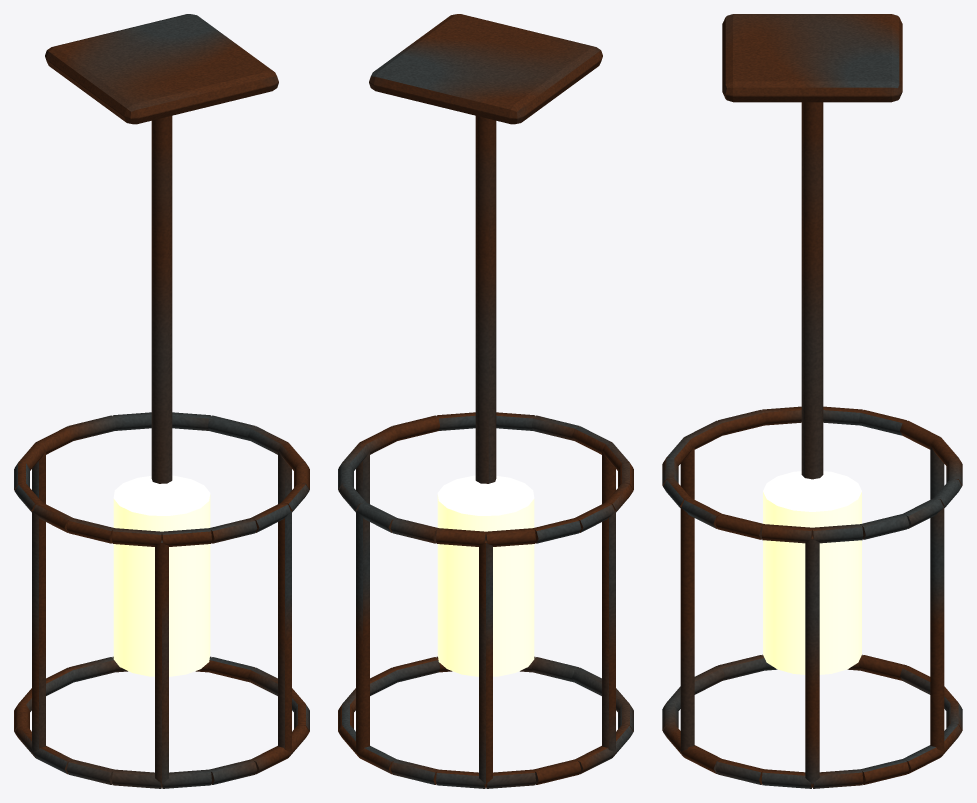
Rendered from CeilingLamp.fbx.
The picture shows the model from 3 angles, left to right: view 1: azimuth 30°, elevation 25°; view 2: azimuth 150°, elevation 25°; view 3: azimuth 270°, elevation 25°; orthographic projection.
Parts seen in each view (by area): view 1: CeilingLamp; view 2: CeilingLamp; view 3: CeilingLamp.
Boxes of the visible parts, x1,y1,x2,y2 form: CeilingLamp: (14,14,309,788); CeilingLamp: (338,14,633,788); CeilingLamp: (662,14,962,788).
Size of the model in its own units: 33.8 by 83.03 by 33.31.
